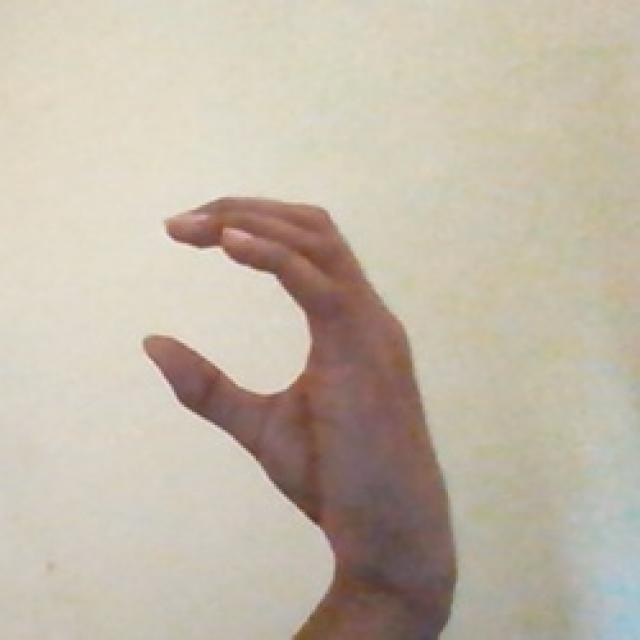Alphabet-C: (130, 184, 486, 589)
